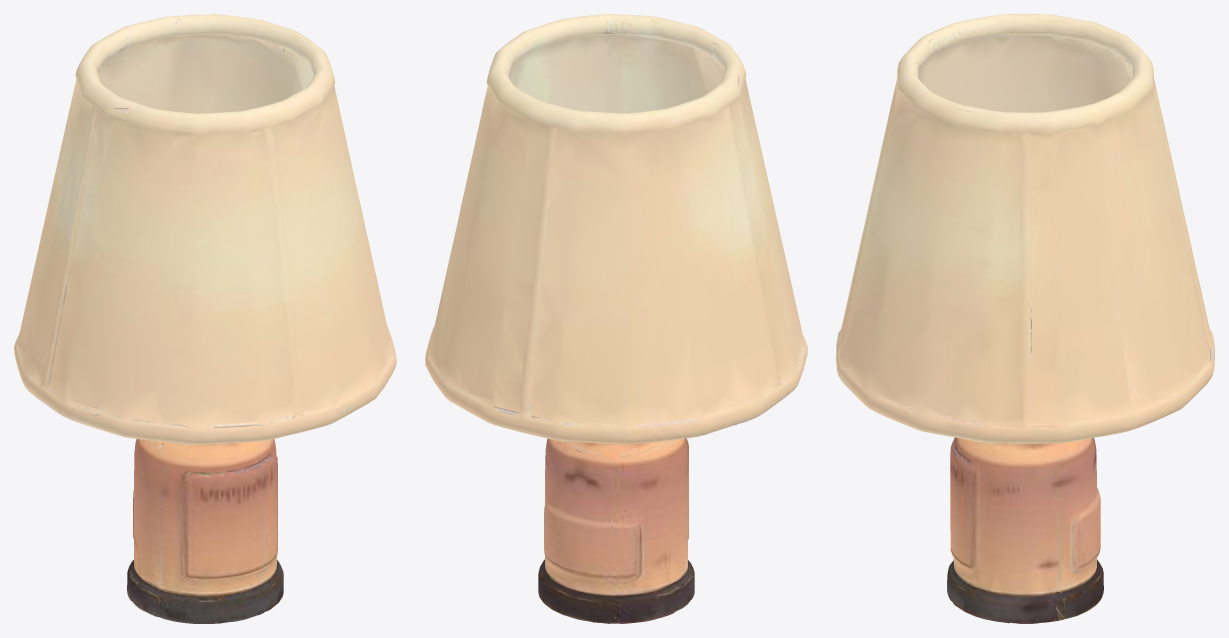
The model's file is Wood_floorlamp.glb.
3 views of the same model, side by side, from view 1: azimuth 30°, elevation 25°; view 2: azimuth 150°, elevation 25°; view 3: azimuth 270°, elevation 25° (orthographic).
Parts seen in each view (by area): view 1: Mesh_0; view 2: Mesh_0; view 3: Mesh_0.
Part boxes in pixels (x1,y1,x2,y2): Mesh_0: (14,14,396,623); Mesh_0: (425,14,807,623); Mesh_0: (836,14,1214,623).
Size of the model in its own units: 1.24 by 1.91 by 1.24.
Materials: 1 (1 with a texture image).
